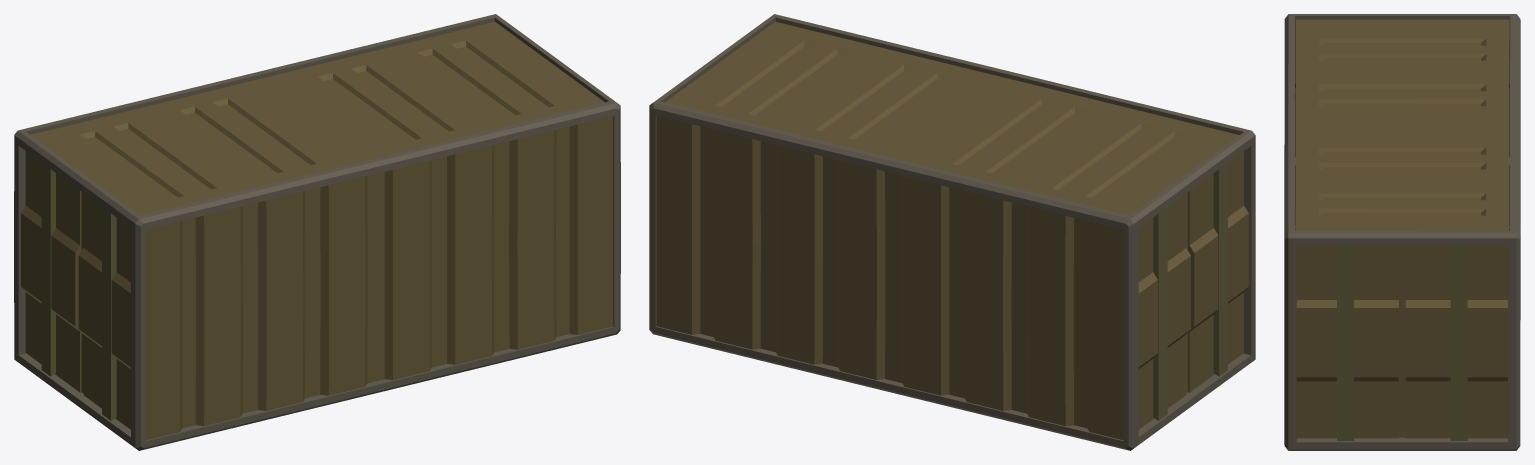
File: prop_container_green.glb
The picture shows the model from 3 angles, left to right: view 1: azimuth 30°, elevation 25°; view 2: azimuth 150°, elevation 25°; view 3: azimuth 270°, elevation 25°; orthographic projection. The views are drawn at different scales.
Visible parts, largest first — view 1: Container_Green; view 2: Container_Green; view 3: Container_Green.
Boxes of the visible parts, x1,y1,x2,y2 form: Container_Green: [14, 14, 620, 450]; Container_Green: [649, 14, 1255, 450]; Container_Green: [1284, 14, 1520, 450].
Size of the model in its own units: 5.71 by 2.6 by 2.56.
1 material, 1 textured.
